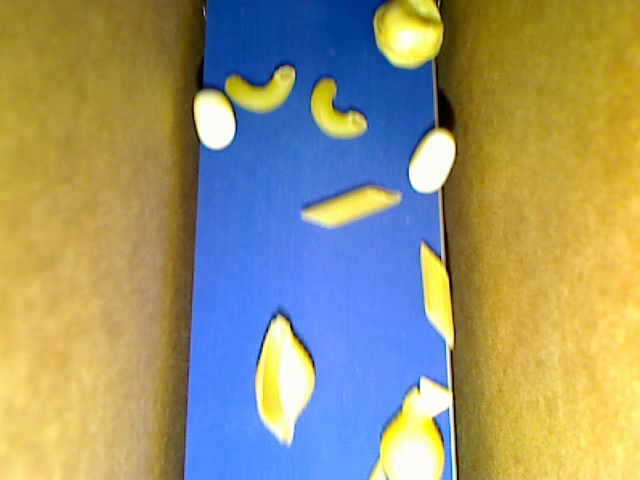elbow: (310, 77, 368, 139), (225, 65, 294, 115)
penne: (300, 186, 402, 230), (419, 238, 454, 350)
shell: (253, 312, 316, 448), (379, 386, 444, 479)
tortellini: (372, 1, 444, 72)
